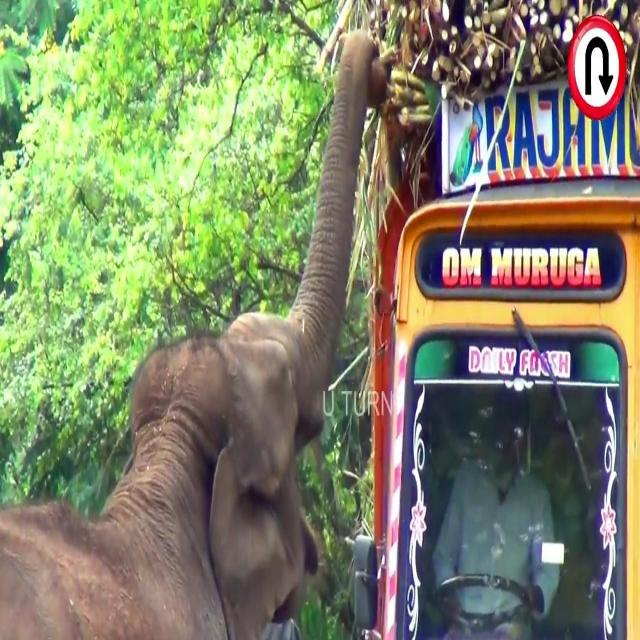Elephant: (1, 33, 383, 631)
